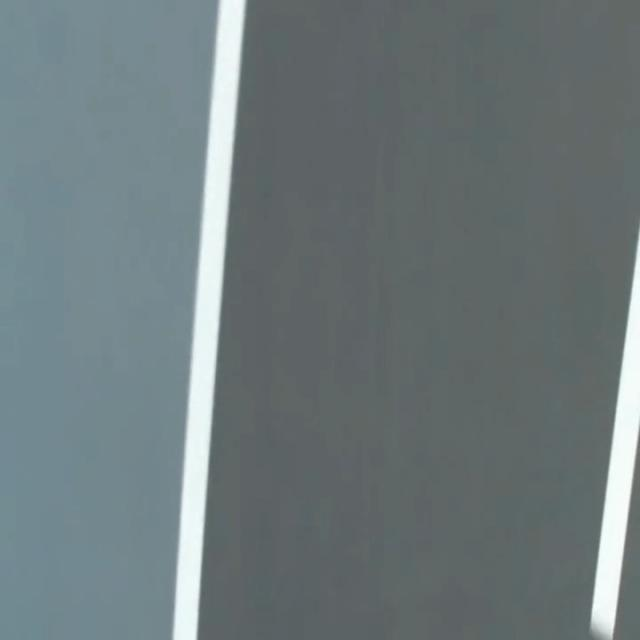center: (590, 229, 639, 639)
left: (172, 0, 245, 639)
